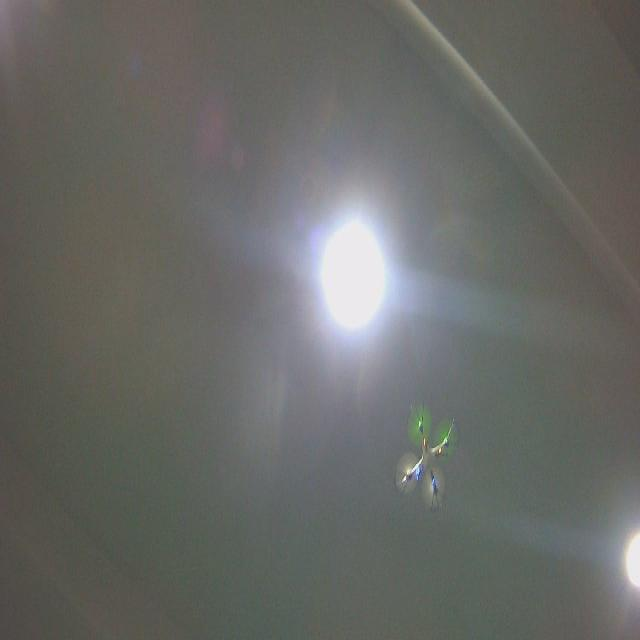drone: (392, 394, 464, 514)
